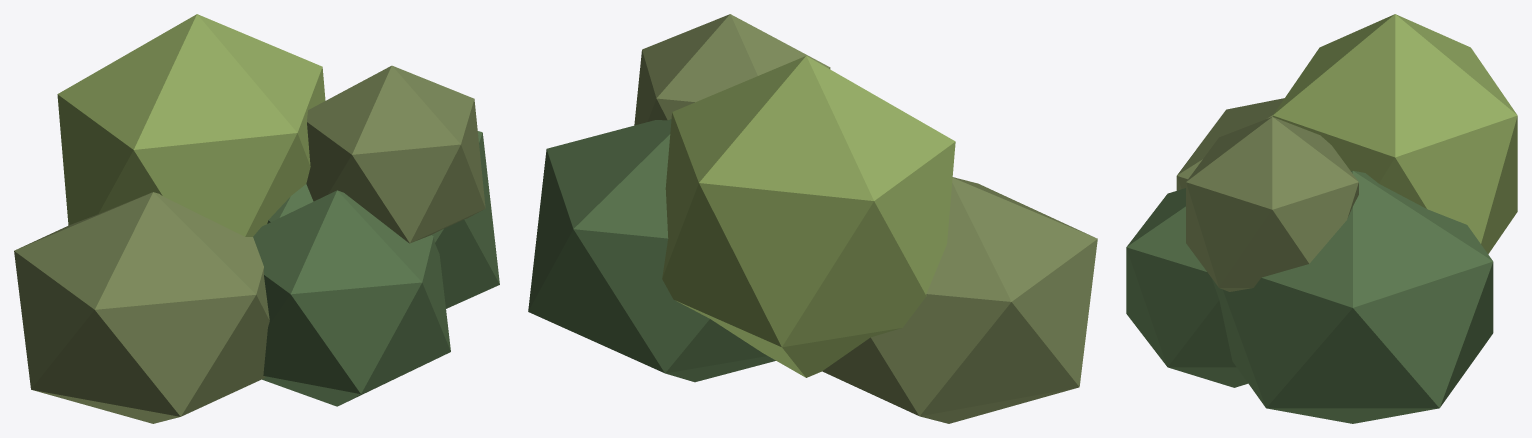
File: prop_shrub.glb
3 views of the same model, side by side, from view 1: azimuth 30°, elevation 25°; view 2: azimuth 150°, elevation 25°; view 3: azimuth 270°, elevation 25° (orthographic). The views are drawn at different scales.
Visible parts, largest first — view 1: prop_shrub__Shrub crown 0, prop_shrub__Shrub crown 2, prop_shrub__Shrub crown 3, prop_shrub__Shrub crown 4, prop_shrub__Shrub crown 1; view 2: prop_shrub__Shrub crown 2, prop_shrub__Shrub crown 0, prop_shrub__Shrub crown 1, prop_shrub__Shrub crown 4; view 3: prop_shrub__Shrub crown 1, prop_shrub__Shrub crown 2, prop_shrub__Shrub crown 4, prop_shrub__Shrub crown 3, prop_shrub__Shrub crown 0.
Part boxes in pixels (bbox=[...]): prop_shrub__Shrub crown 0: bbox=[14, 192, 269, 423]; prop_shrub__Shrub crown 2: bbox=[57, 14, 325, 236]; prop_shrub__Shrub crown 3: bbox=[253, 190, 450, 406]; prop_shrub__Shrub crown 4: bbox=[306, 65, 485, 243]; prop_shrub__Shrub crown 1: bbox=[267, 131, 499, 308]; prop_shrub__Shrub crown 2: bbox=[662, 56, 955, 377]; prop_shrub__Shrub crown 0: bbox=[822, 177, 1097, 423]; prop_shrub__Shrub crown 1: bbox=[528, 119, 775, 382]; prop_shrub__Shrub crown 4: bbox=[634, 14, 830, 125]; prop_shrub__Shrub crown 1: bbox=[1212, 170, 1493, 423]; prop_shrub__Shrub crown 2: bbox=[1272, 14, 1517, 254]; prop_shrub__Shrub crown 4: bbox=[1186, 117, 1358, 291]; prop_shrub__Shrub crown 3: bbox=[1126, 188, 1247, 387]; prop_shrub__Shrub crown 0: bbox=[1176, 98, 1284, 190].
Bounding box in the file's own units: 1.29 × 0.92 × 0.9244.
